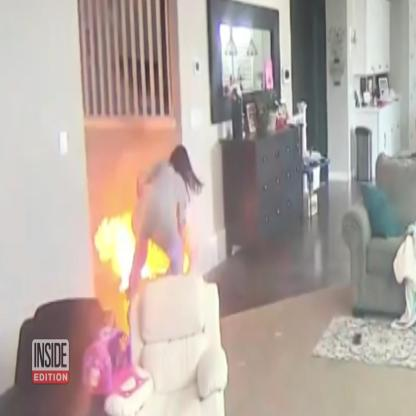fire: (94, 214, 136, 292), (141, 239, 171, 280), (183, 250, 189, 274)
